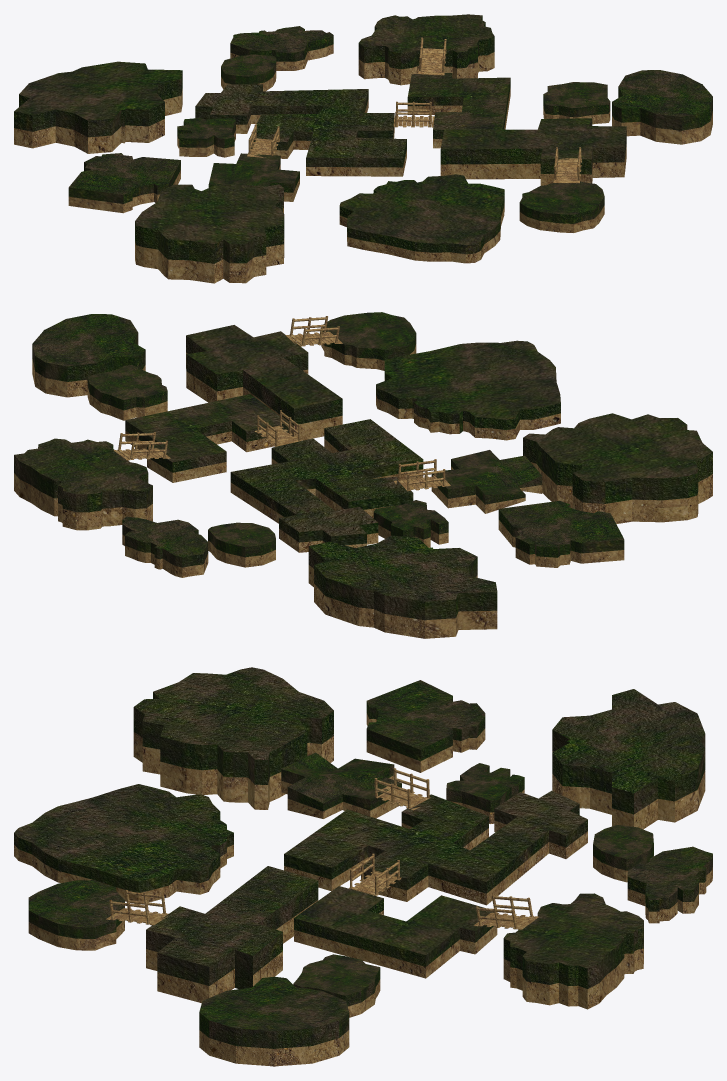
File: CourogeNewMap.FBX
3 renders of one model, top to bottom at view 1: azimuth 30°, elevation 25°; view 2: azimuth 150°, elevation 25°; view 3: azimuth 270°, elevation 25°, orthographic. The views are drawn at different scales.
Parts seen in each view (by area): view 1: Line007, Line002, Line005, Line015, Line003, Line011, Line013, Line004, Line006, Line014, Line010, Line001 (+3 smaller); view 2: Line007, Line002, Line005, Line015, Line003, Line011, Line004, Line013, Line006, Line001, Line014, Line010 (+3 smaller); view 3: Line002, Line007, Line015, Line005, Line003, Line011, Line004, Line013, Line006, Line001, Line014, Line010 (+3 smaller).
Part boxes in pixels (<box>): Line007: <box>135,184,284,283</box>; Line002: <box>195,84,406,176</box>; Line005: <box>14,61,182,153</box>; Line015: <box>339,174,504,263</box>; Line003: <box>440,118,626,185</box>; Line011: <box>358,14,494,85</box>; Line013: <box>612,70,712,144</box>; Line004: <box>407,73,510,148</box>; Line006: <box>68,153,180,213</box>; Line014: <box>519,181,604,232</box>; Line010: <box>230,26,333,70</box>; Line001: <box>208,153,299,201</box>; Line007: <box>523,413,712,523</box>; Line002: <box>230,419,423,552</box>; Line005: <box>308,535,497,638</box>; Line015: <box>376,340,560,440</box>; Line003: <box>186,325,342,440</box>; Line011: <box>14,438,152,530</box>; Line004: <box>125,394,288,482</box>; Line013: <box>32,314,145,397</box>; Line006: <box>498,500,624,567</box>; Line001: <box>431,450,542,513</box>; Line014: <box>321,312,416,370</box>; Line010: <box>122,516,208,577</box>; Line002: <box>284,790,587,905</box>; Line007: <box>133,667,333,809</box>; Line015: <box>14,784,233,904</box>; Line005: <box>552,689,705,829</box>; Line003: <box>146,866,318,1003</box>; Line011: <box>503,893,643,1009</box>; Line004: <box>294,886,497,978</box>; Line013: <box>199,976,349,1066</box>; Line006: <box>366,680,485,772</box>; Line001: <box>281,752,401,818</box>; Line014: <box>28,880,124,950</box>; Line010: <box>627,846,712,923</box>.
Size of the model in its own units: 131 by 11.02 by 109.
Materials: 2 (2 with a texture image).
